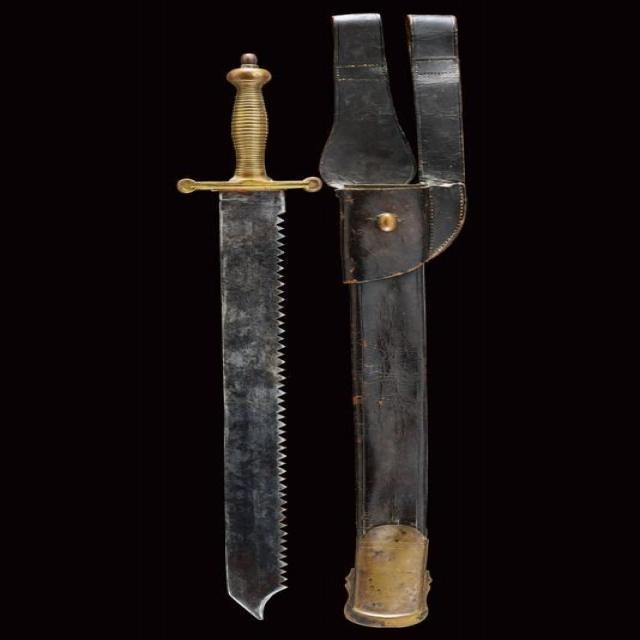short sword: (158, 39, 324, 621)
